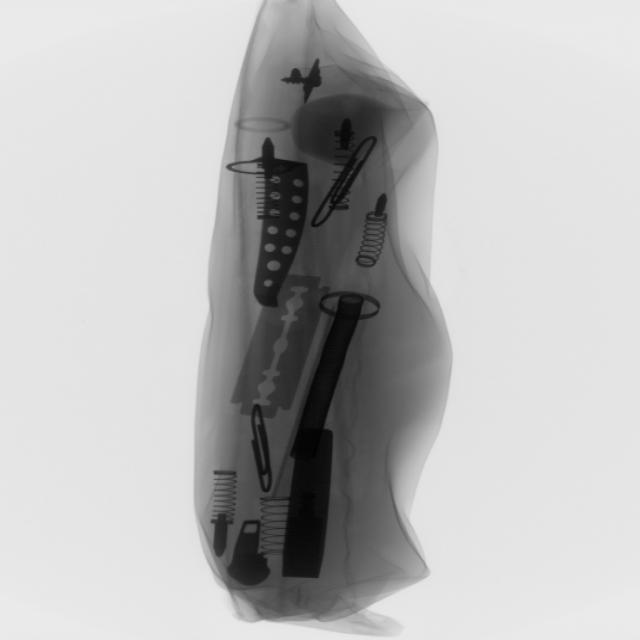BLADE: (231, 262, 326, 433), (240, 395, 285, 503)
